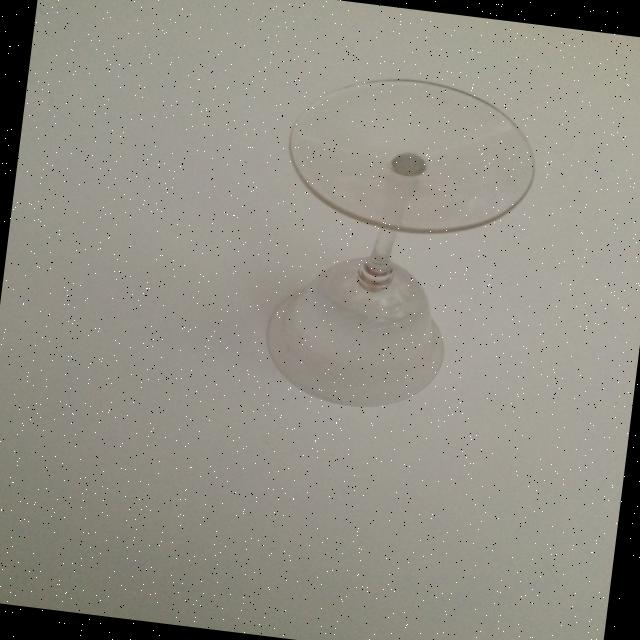glass: (255, 63, 544, 424)
